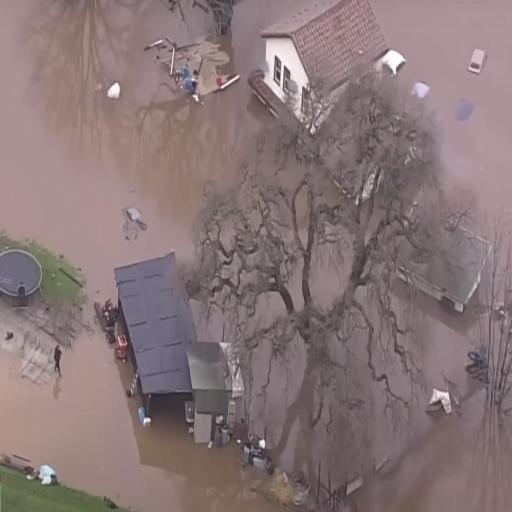flood: (0, 1, 512, 511), (0, 326, 276, 511), (373, 2, 512, 237)
house: (110, 252, 223, 423), (254, 0, 391, 137)
